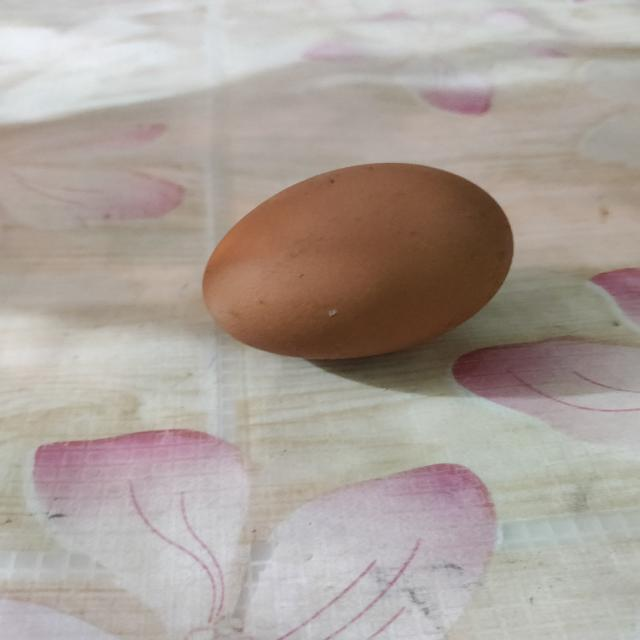egg: (195, 161, 523, 366)
